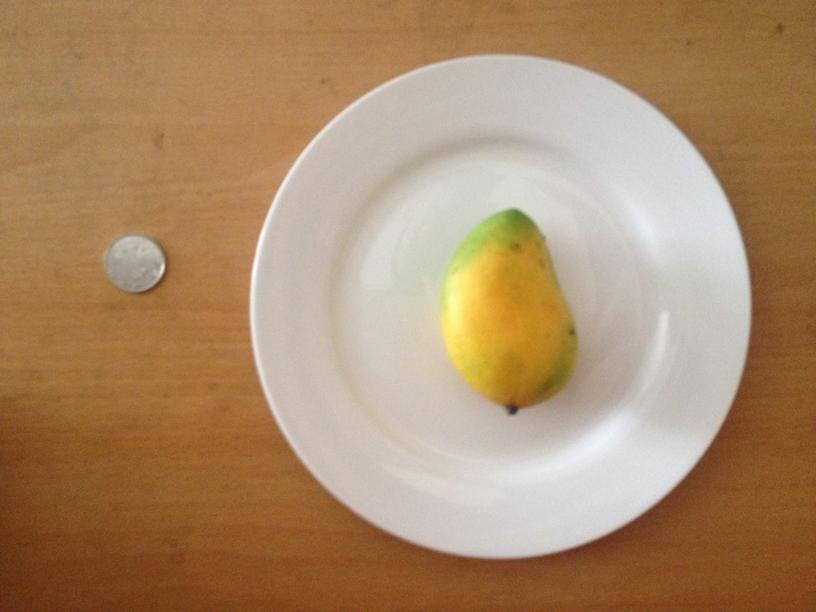coin: (104, 233, 166, 294)
mango: (441, 211, 577, 406)
